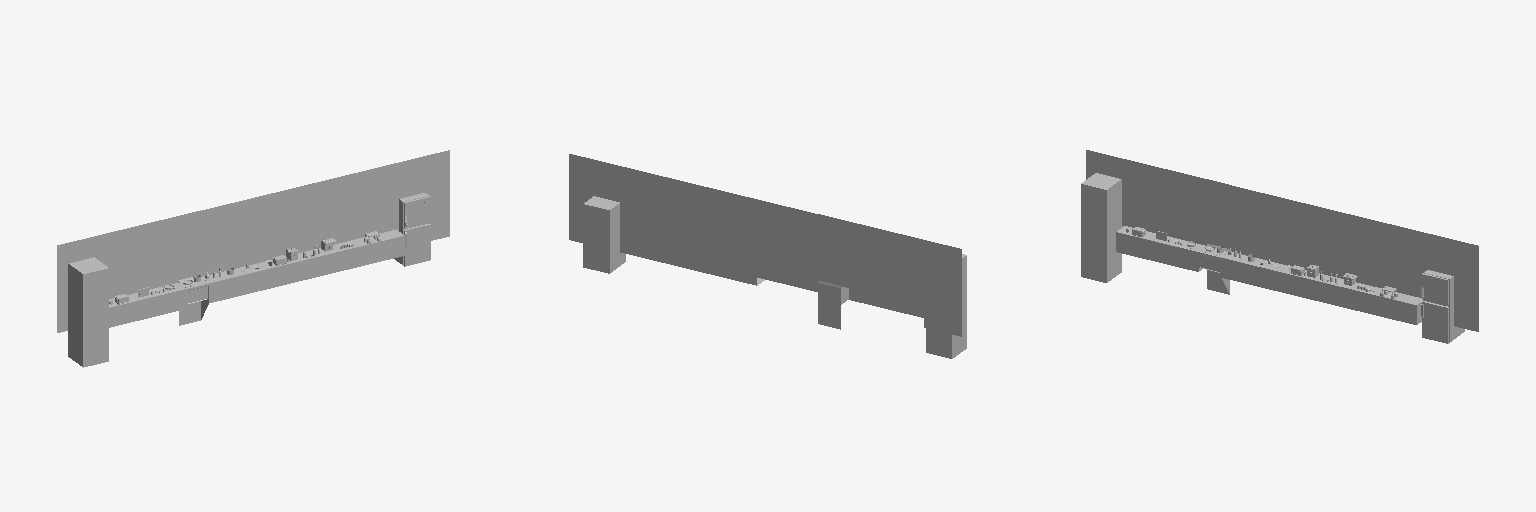
The picture shows the model from 3 angles: view 1: azimuth 30°, elevation 25°; view 2: azimuth 150°, elevation 25°; view 3: azimuth 330°, elevation 25°; orthographic projection.
Parts seen in each view (by area): view 1: desk_Plane, frige_Cube_Cube.002; view 2: desk_Plane, frige_Cube_Cube.002; view 3: desk_Plane, frige_Cube_Cube.002.
Part boxes in pixels (left/top/right/bottom): desk_Plane: left=57, top=150, right=449, bottom=367; frige_Cube_Cube.002: left=394, top=193, right=430, bottom=266; desk_Plane: left=569, top=154, right=966, bottom=358; frige_Cube_Cube.002: left=583, top=196, right=625, bottom=273; desk_Plane: left=1081, top=150, right=1478, bottom=331; frige_Cube_Cube.002: left=1421, top=270, right=1464, bottom=343.
Size of the model in its own units: 213 by 58.74 by 24.89.